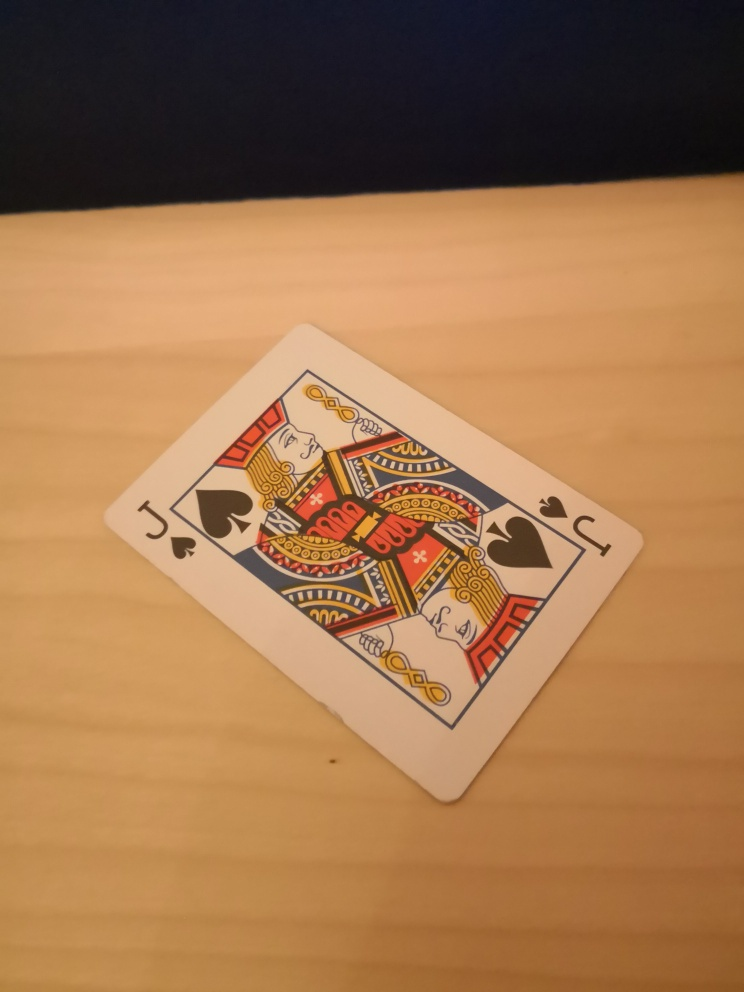jack: (102, 322, 644, 806)
